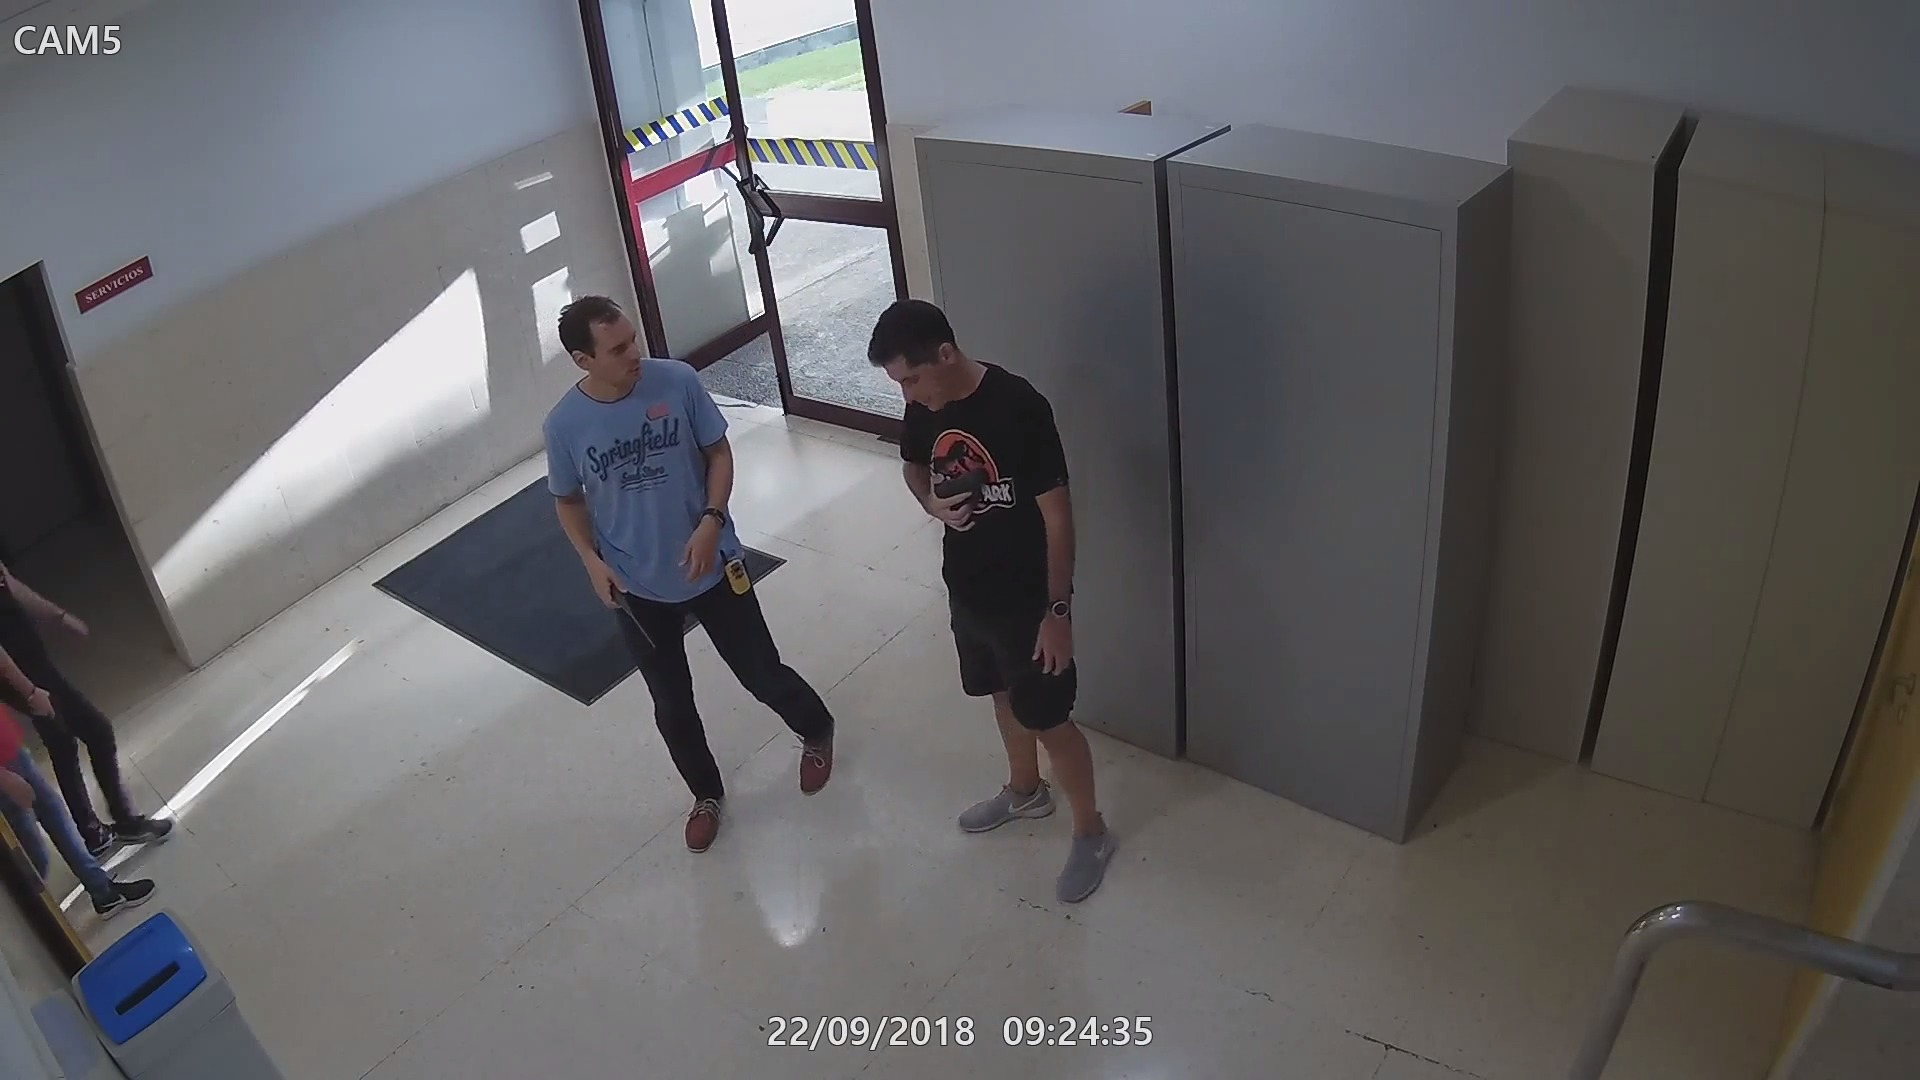Handgun: (926, 460, 998, 534), (26, 684, 76, 750)
Knife: (591, 556, 657, 650)
